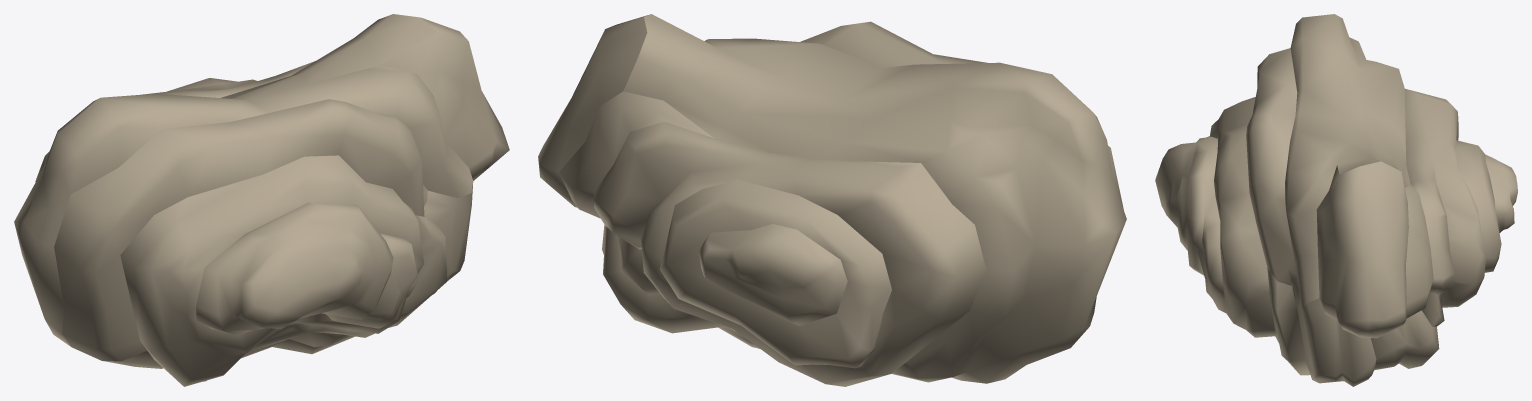
Rendered from Rock_009_a.FBX.
3 views of the same model, side by side, from view 1: azimuth 30°, elevation 25°; view 2: azimuth 150°, elevation 25°; view 3: azimuth 270°, elevation 25° (orthographic). The views are drawn at different scales.
Parts seen in each view (by area): view 1: Rock_009_a_LOD0; view 2: Rock_009_a_LOD0; view 3: Rock_009_a_LOD0.
Part boxes in pixels (x1=…): Rock_009_a_LOD0: x1=14, y1=14, x2=509, y2=386; Rock_009_a_LOD0: x1=538, y1=14, x2=1126, y2=386; Rock_009_a_LOD0: x1=1155, y1=14, x2=1517, y2=386.
Bounding box in the file's own units: 580 × 418 × 316.
